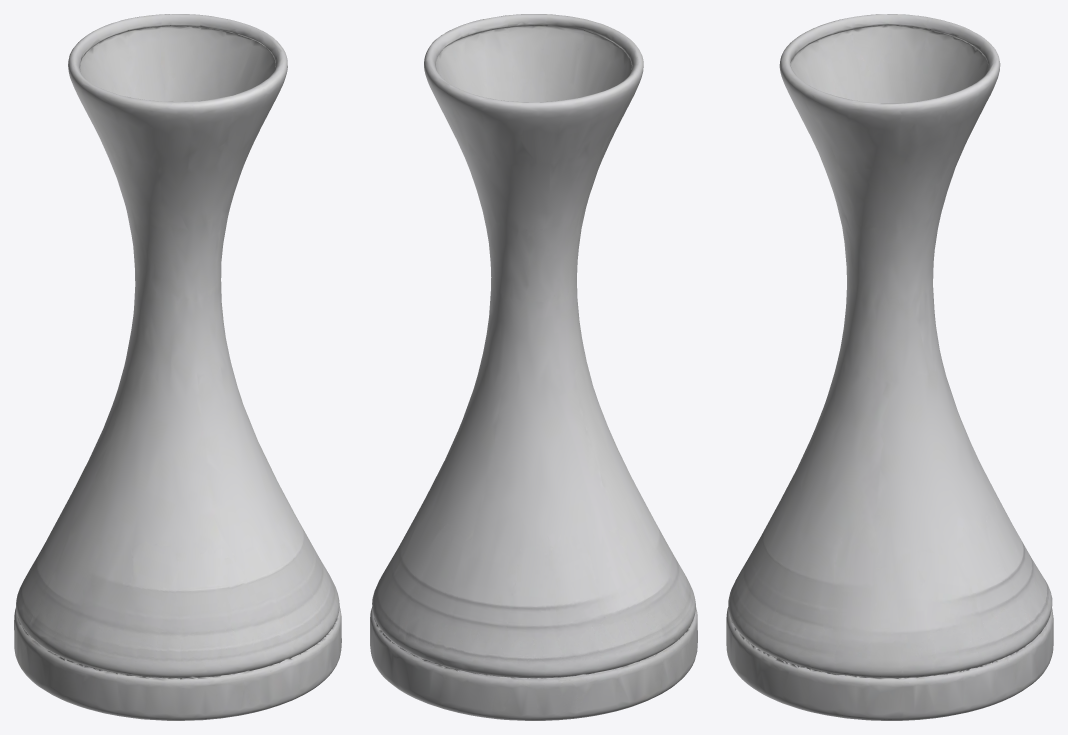
The model's file is pawn-white-hd.glb.
3 views of the same model, side by side, from view 1: azimuth 30°, elevation 25°; view 2: azimuth 150°, elevation 25°; view 3: azimuth 270°, elevation 25° (orthographic).
Bounding box in the file's own units: 0.4724 × 0.95 × 0.4724.
1 material, 1 textured.
